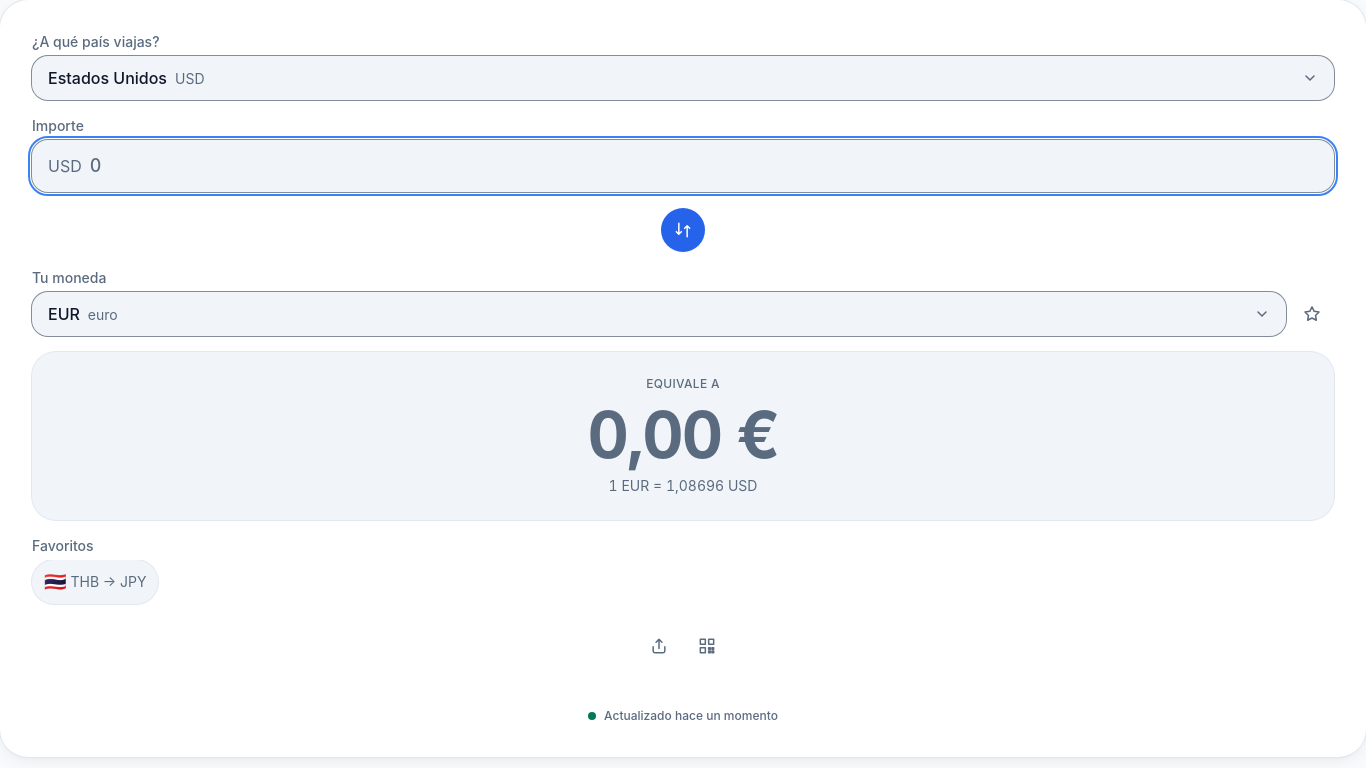
Scenario: Converter — favourites › restores both selectors when a saved pair is chosen
Expected: the field labelled "Importe" is shown, [90,140,1318,192]
Expected: the text "1 EUR = 1,08696 USD" is shown, [609,477,757,494]
Click the button with aria-label "Tailandia, de THB a JPY". click: (95, 582)
box: [32,560,158,604]
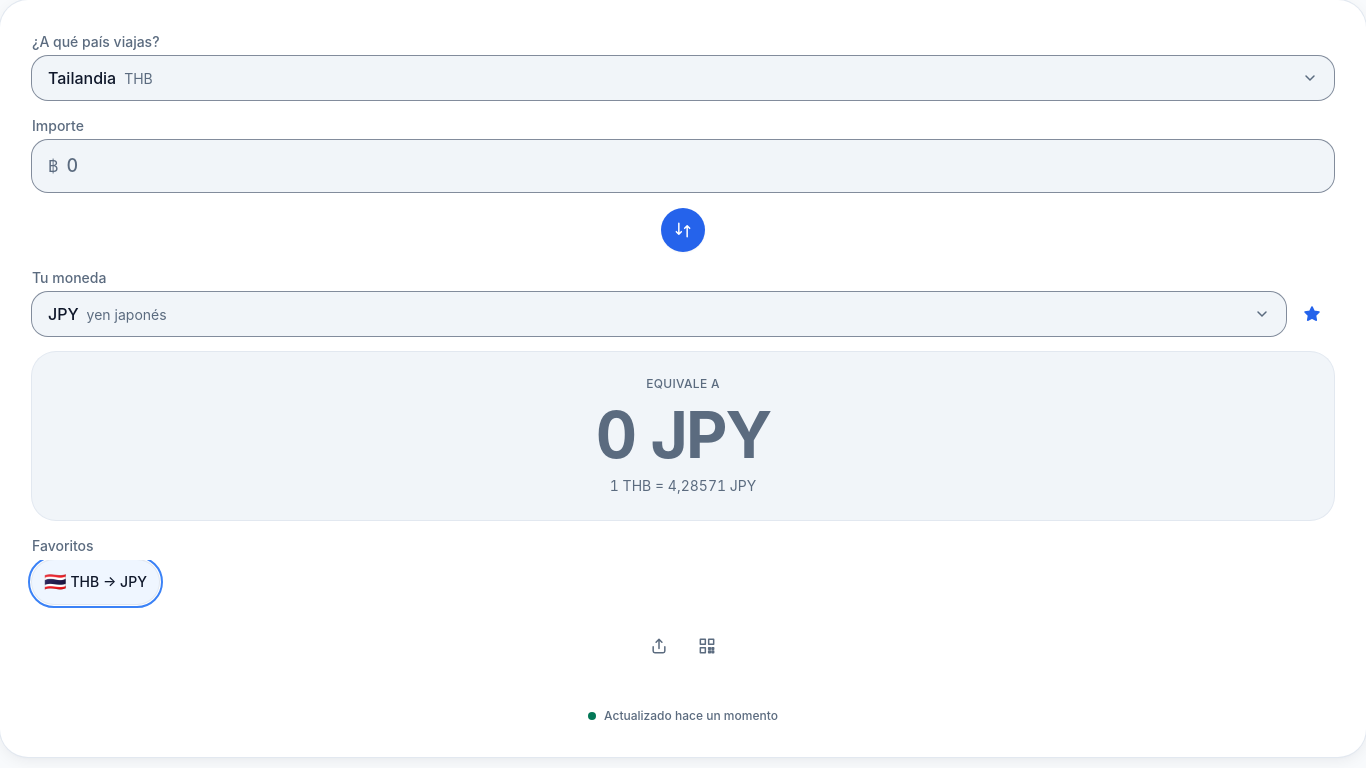
Expected: the text "1 THB = 4,28571 JPY" is shown, [610,477,756,494]
Expected: the button named "país viajas" shows "Tailandia", [32,56,1334,100]
